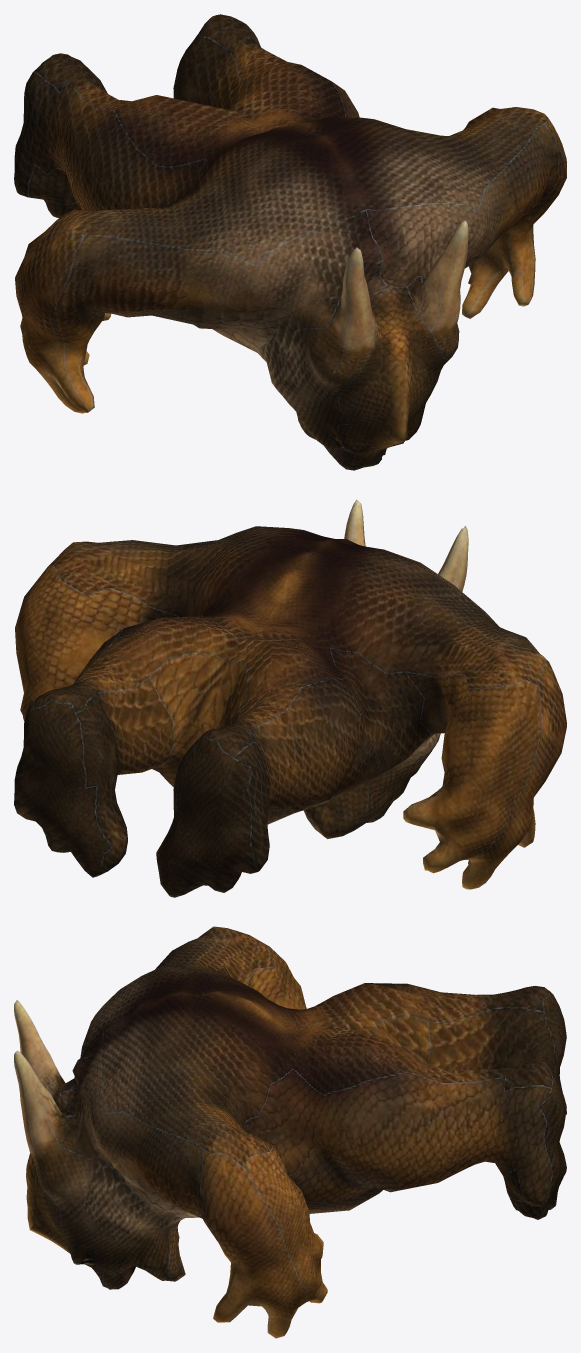
Rendered from Monster.dae.
3 views of the same model, one above another, from view 1: azimuth 30°, elevation 25°; view 2: azimuth 150°, elevation 25°; view 3: azimuth 270°, elevation 25° (orthographic). The views are drawn at different scales.
Parts seen in each view (by area): view 1: Volume104; view 2: Volume104; view 3: Volume104.
Part boxes in pixels (left/top/right/bottom): Volume104: left=14, top=14, right=566, bottom=470; Volume104: left=14, top=499, right=566, bottom=897; Volume104: left=14, top=926, right=566, bottom=1338.
Bounding box in the file's own units: 27.48 × 25.84 × 15.08.
1 material, 1 textured.
